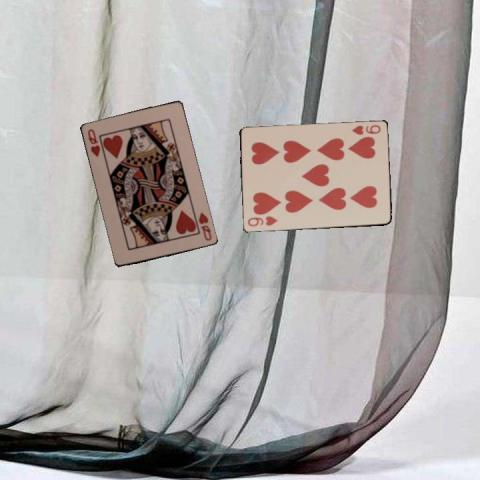9h: (244, 213, 278, 228), (349, 122, 382, 136)
Qh: (196, 209, 213, 243), (85, 126, 102, 159)
